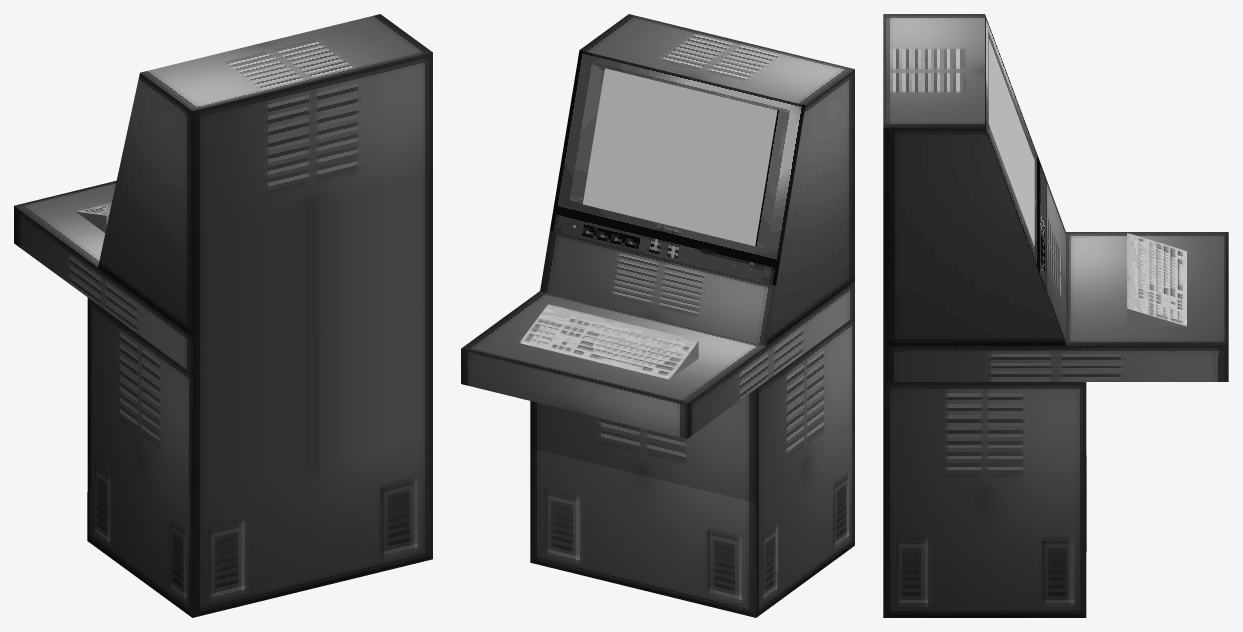
Rendered from console_12.glb.
The picture shows the model from 3 angles, left to right: view 1: azimuth 30°, elevation 25°; view 2: azimuth 150°, elevation 25°; view 3: azimuth 270°, elevation 25°; orthographic projection. The views are drawn at different scales.
Parts seen in each view (by area): view 1: Object; view 2: Object; view 3: Object.
Part boxes in pixels (bbox=[...]): Object: bbox=[14, 14, 432, 617]; Object: bbox=[461, 14, 854, 617]; Object: bbox=[883, 14, 1228, 617].
Bounding box in the file's own units: 0.8845 × 1.78 × 1.14.
19 materials, 19 textured.
